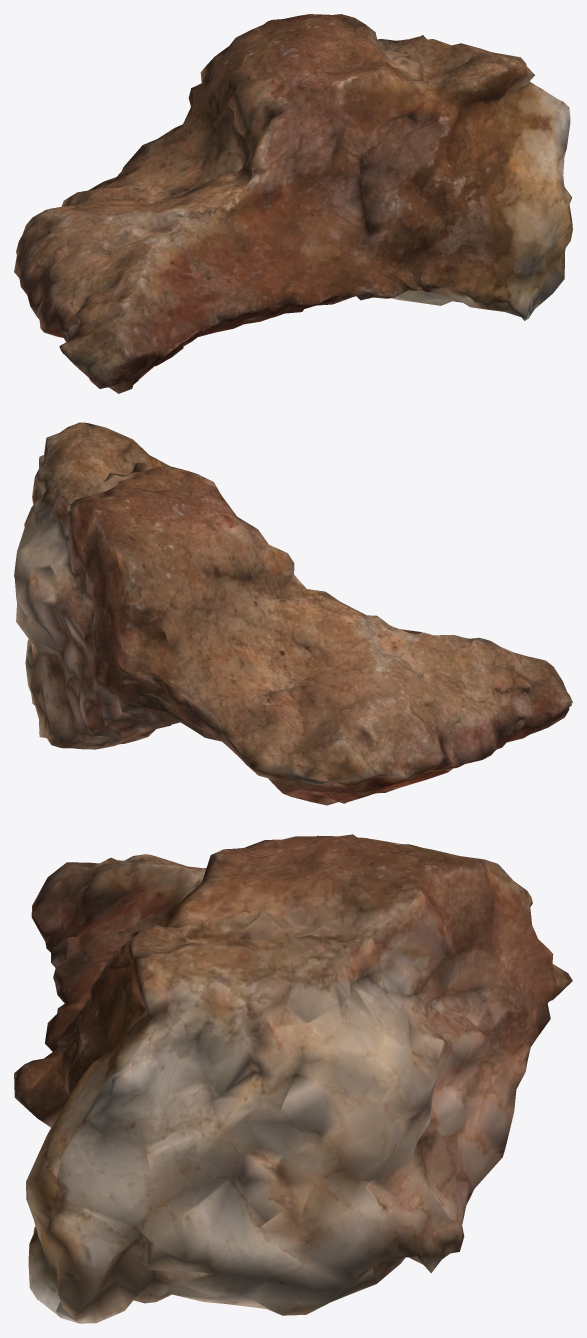
The model's file is stone_small.glb.
The picture shows the model from 3 angles, top to bottom: view 1: azimuth 30°, elevation 25°; view 2: azimuth 150°, elevation 25°; view 3: azimuth 270°, elevation 25°; orthographic projection. The views are drawn at different scales.
Parts seen in each view (by area): view 1: stone_01; view 2: stone_01; view 3: stone_01.
Part boxes in pixels (x1,y1,x2,y2): stone_01: (14, 14, 572, 393); stone_01: (14, 422, 572, 805); stone_01: (14, 834, 572, 1323).
Bounding box in the file's own units: 0.1469 × 0.0711 × 0.089.
Materials: 1 (1 with a texture image).
